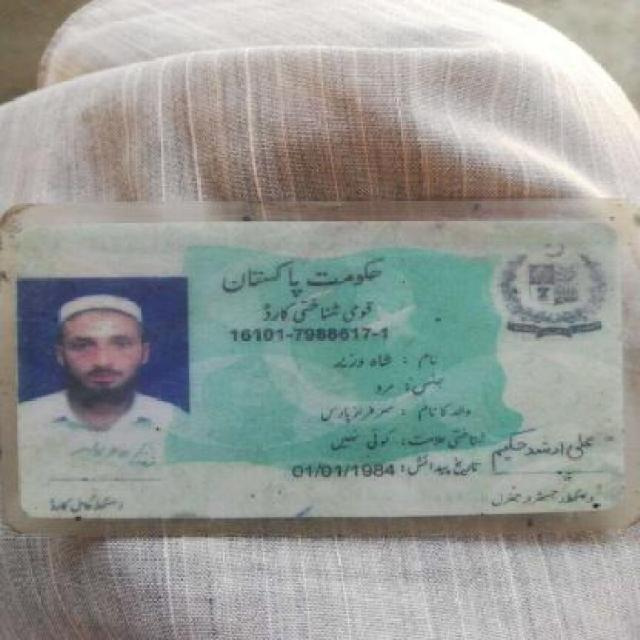Front: (10, 219, 628, 526)
